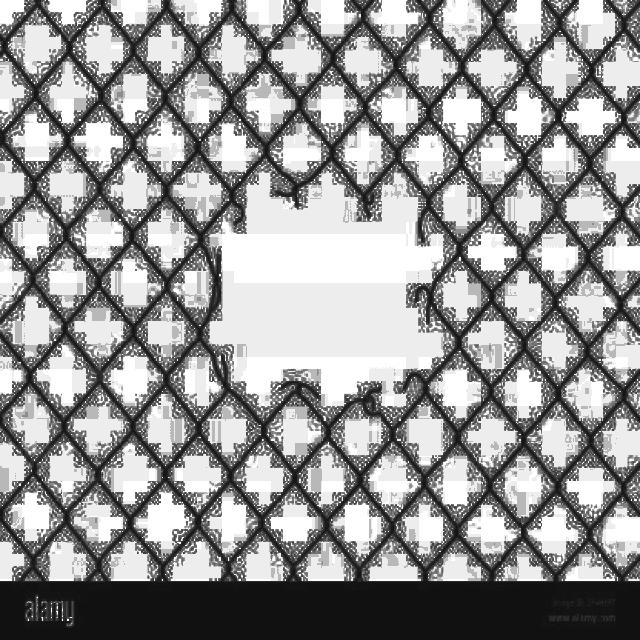anomaly-fence: (190, 153, 467, 427)
